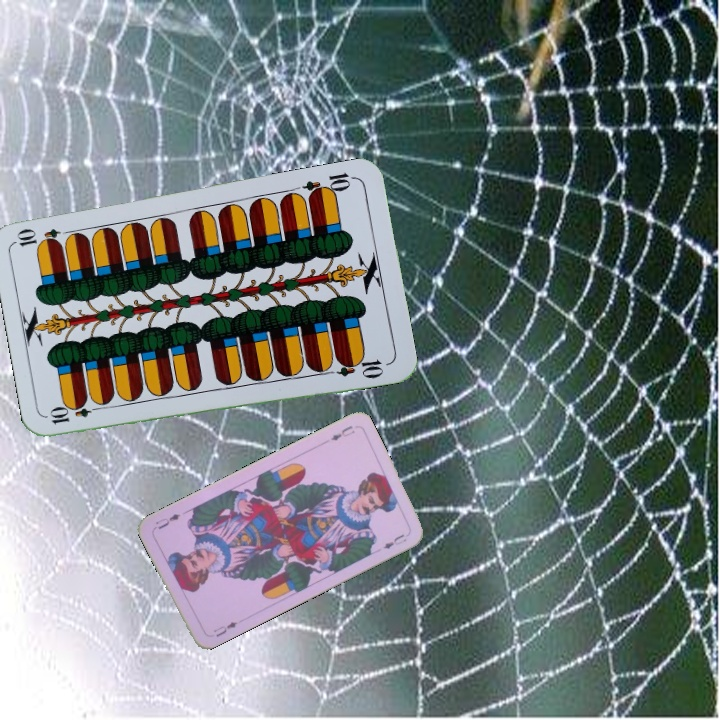E10: (300, 168, 358, 202), (46, 400, 105, 427)
EU: (209, 617, 240, 639), (327, 421, 357, 443)
